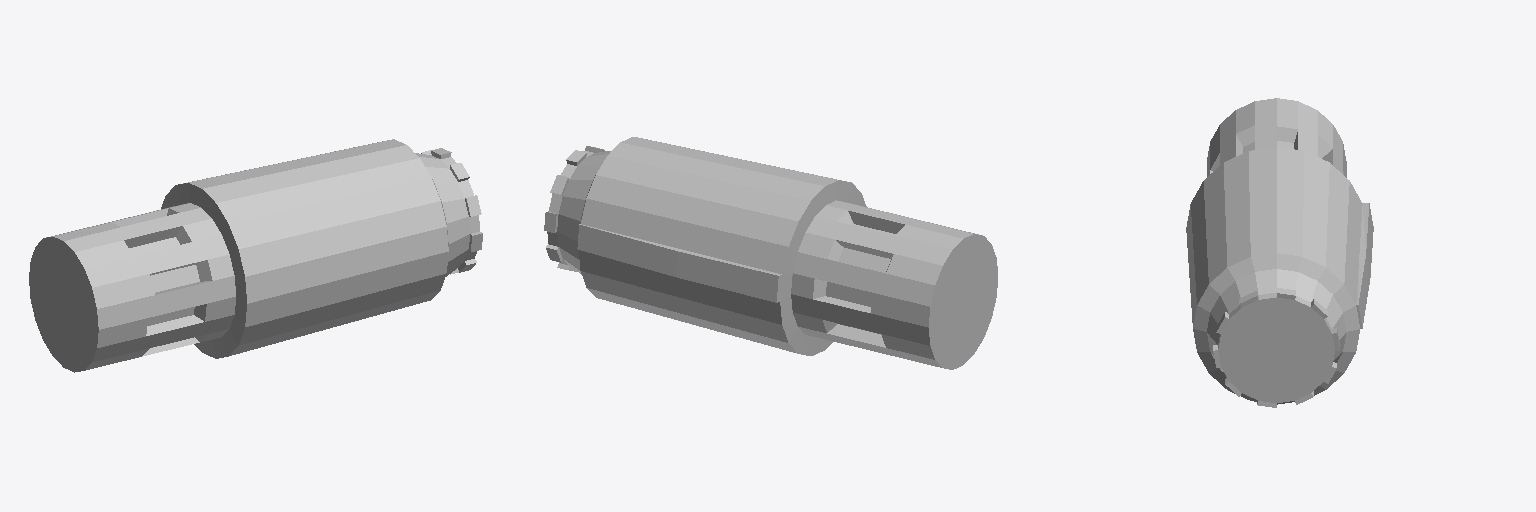
The model's file is ruramala.obj.
3 renders of one model, left to right at view 1: azimuth 30°, elevation 25°; view 2: azimuth 150°, elevation 25°; view 3: azimuth 270°, elevation 25°, orthographic.
Visible parts, largest first — view 1: Rura.NR1.001_Cylinder.027; view 2: Rura.NR1.001_Cylinder.027; view 3: Rura.NR1.001_Cylinder.027.
Part boxes in pixels (x1,y1,x2,y2): Rura.NR1.001_Cylinder.027: (29,139,482,372); Rura.NR1.001_Cylinder.027: (544,137,997,369); Rura.NR1.001_Cylinder.027: (1186,98,1373,407).
Size of the model in its own units: 6.41 by 2.59 by 2.68.